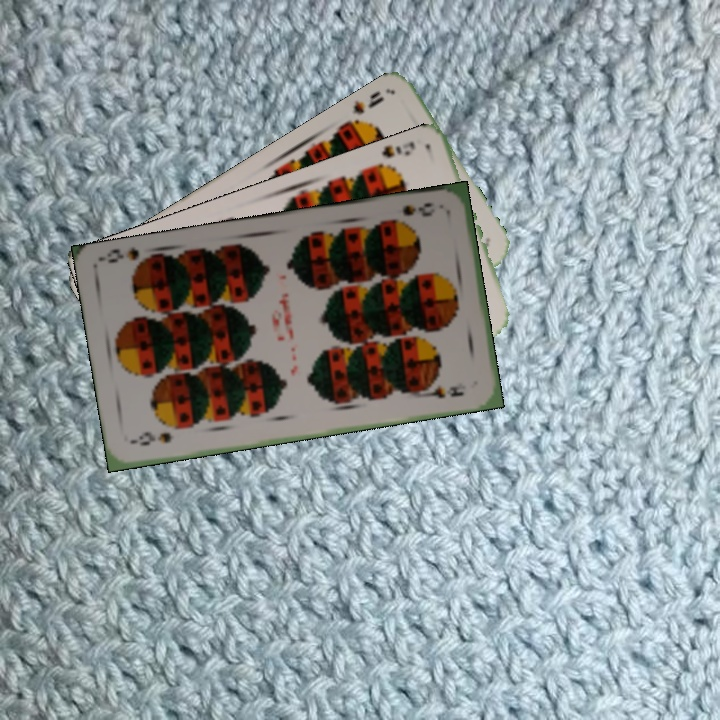S9: (340, 86, 387, 131), (368, 137, 418, 176), (386, 198, 438, 227), (129, 428, 174, 449)
